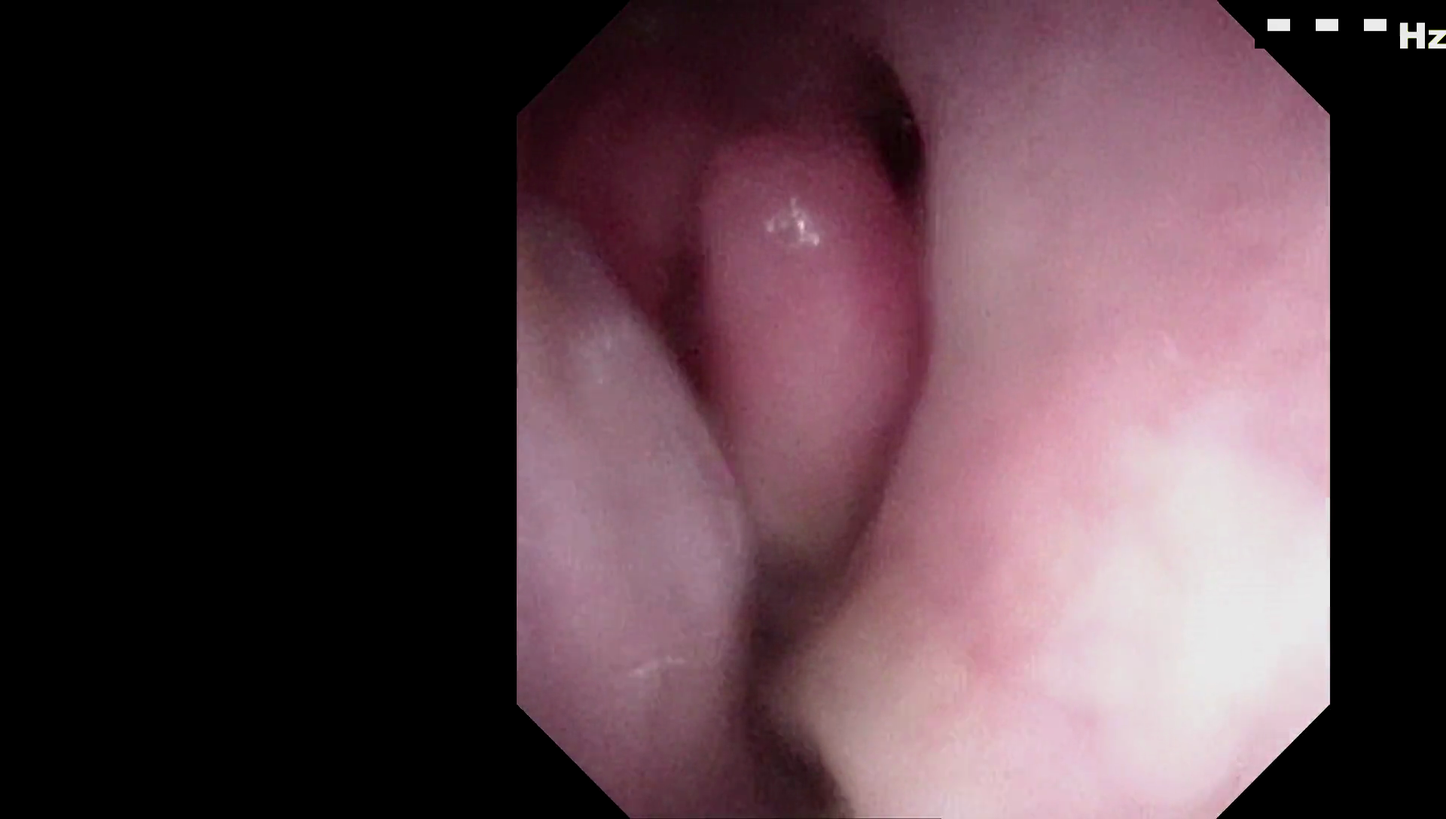close_wall: (897, 157, 1309, 721)
next: (694, 525, 867, 819), (819, 41, 938, 209)
